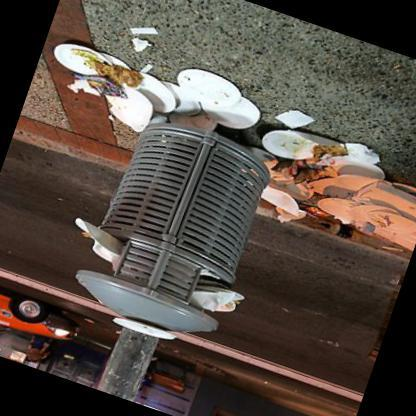Garbage: (44, 15, 274, 160), (262, 125, 415, 271), (255, 90, 412, 199)
